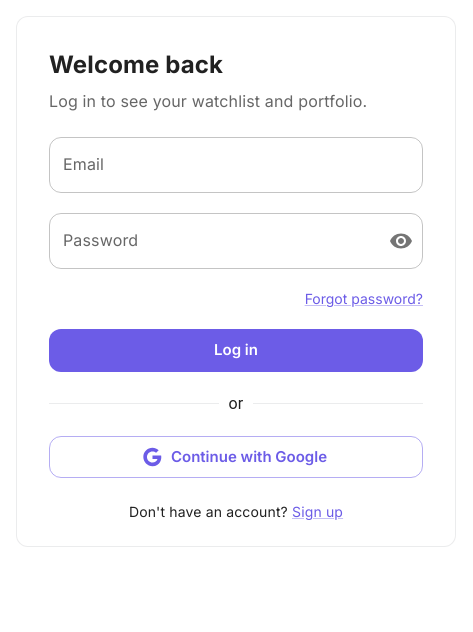
Test: LoginPage › shows a friendly message when the password is wrong
The width and height of the screenshot is (473, 632).
In the field labelled "Email": (236, 165) [49,137,423,193], type "prasad@example.com"
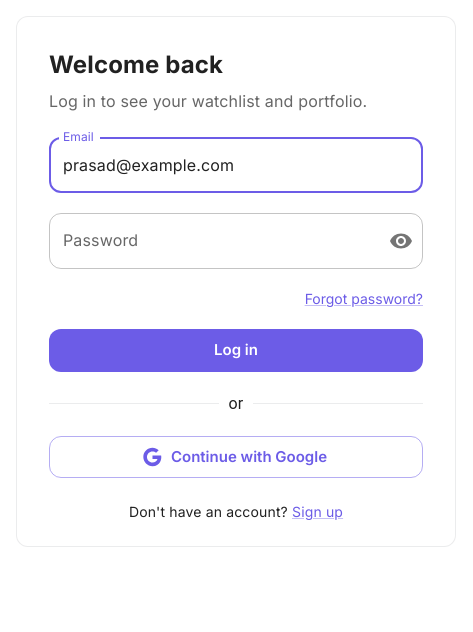
In the password field labelled "Password": (211, 241) [49,213,373,269], type "wrong-password"
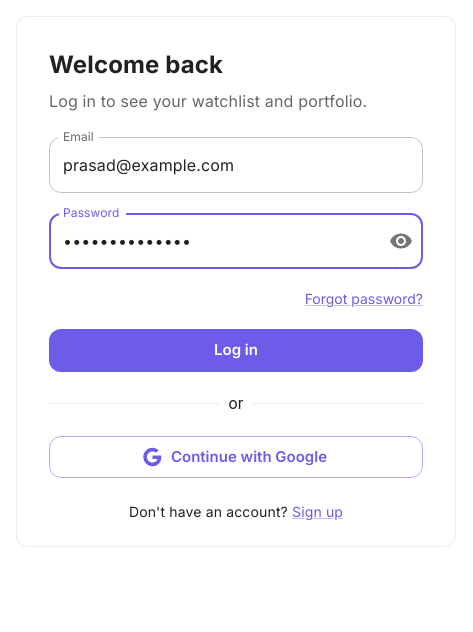
Click the button "Log in": (236, 351) [49,329,423,372]
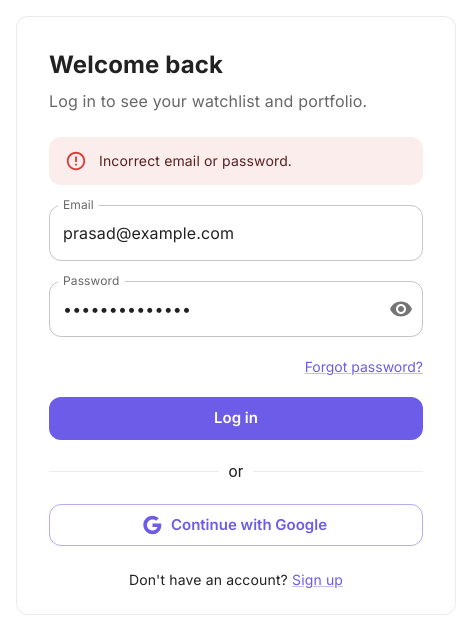
Check: the text "Incorrect email or password." is shown, box [99,152,292,169]
